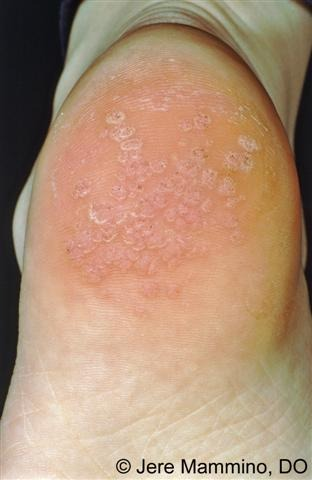Warts: (59, 91, 277, 324)
